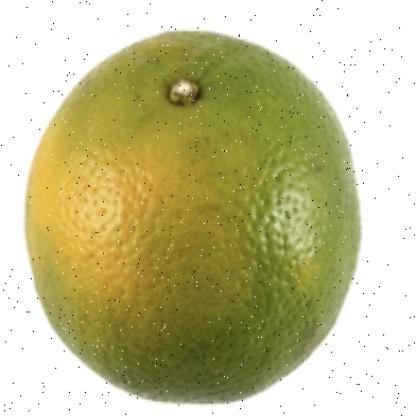fresh: (25, 28, 361, 402)
